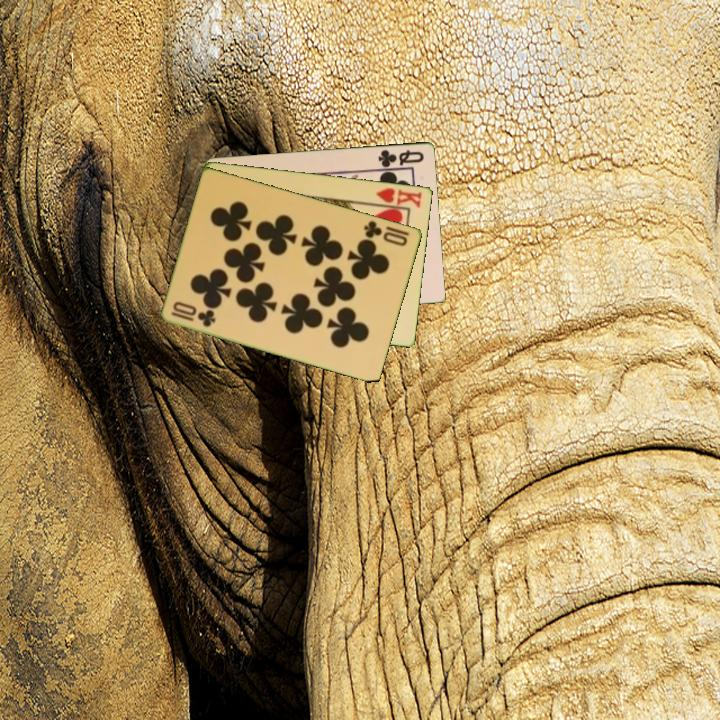10c: (360, 217, 411, 249), (168, 307, 219, 330)
Kh: (368, 184, 425, 211)
Qc: (375, 146, 427, 170)
